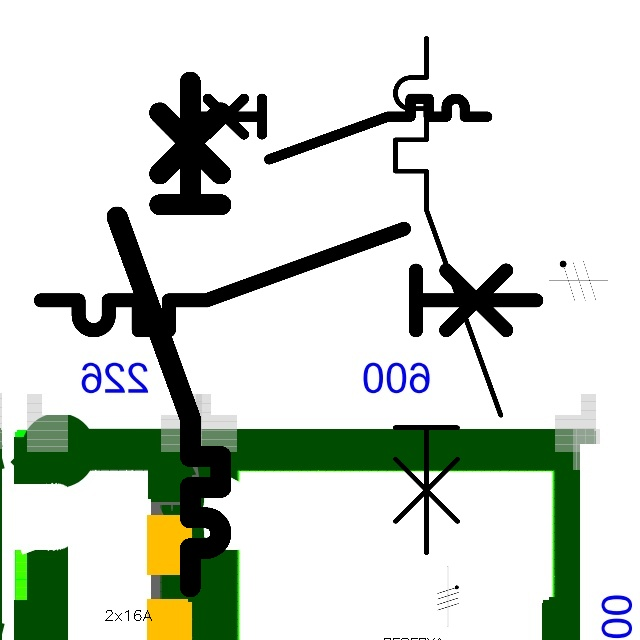interruptor_termomagnetico: (382, 25, 514, 565), (104, 69, 234, 600), (28, 216, 549, 343), (182, 91, 495, 167)
